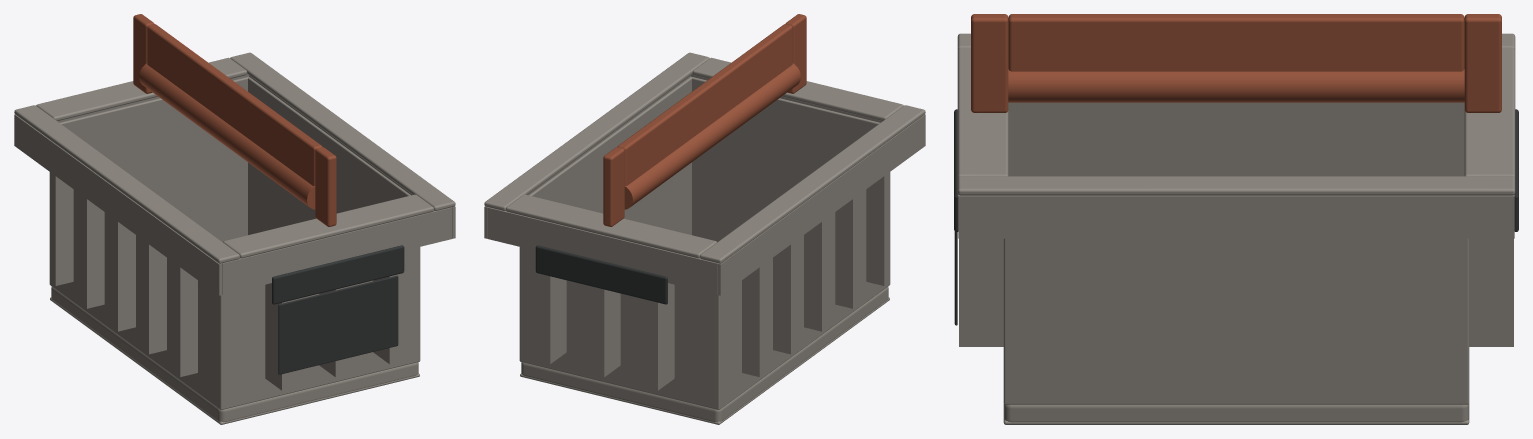
The model's file is robot_tote_bulb_rail_body.glb.
3 views of the same model, side by side, from view 1: azimuth 30°, elevation 25°; view 2: azimuth 150°, elevation 25°; view 3: azimuth 270°, elevation 25° (orthographic). The views are drawn at different scales.
Visible parts, largest first — view 1: robot_tote_bulb_rail_body_plastic, robot_tote_bulb_rail_body_accent, robot_tote_bulb_rail_body_graphite; view 2: robot_tote_bulb_rail_body_plastic, robot_tote_bulb_rail_body_accent, robot_tote_bulb_rail_body_graphite; view 3: robot_tote_bulb_rail_body_plastic, robot_tote_bulb_rail_body_accent, robot_tote_bulb_rail_body_graphite.
Boxes of the visible parts, x1,y1,x2,y2 form: robot_tote_bulb_rail_body_plastic: [14, 52, 455, 424]; robot_tote_bulb_rail_body_accent: [133, 14, 336, 226]; robot_tote_bulb_rail_body_graphite: [272, 245, 404, 374]; robot_tote_bulb_rail_body_plastic: [484, 52, 925, 424]; robot_tote_bulb_rail_body_accent: [603, 14, 806, 226]; robot_tote_bulb_rail_body_graphite: [535, 245, 667, 304]; robot_tote_bulb_rail_body_plastic: [957, 33, 1515, 424]; robot_tote_bulb_rail_body_accent: [971, 14, 1501, 112]; robot_tote_bulb_rail_body_graphite: [954, 109, 1518, 325].
Size of the model in its own units: 0.198 by 0.203 by 0.301.
